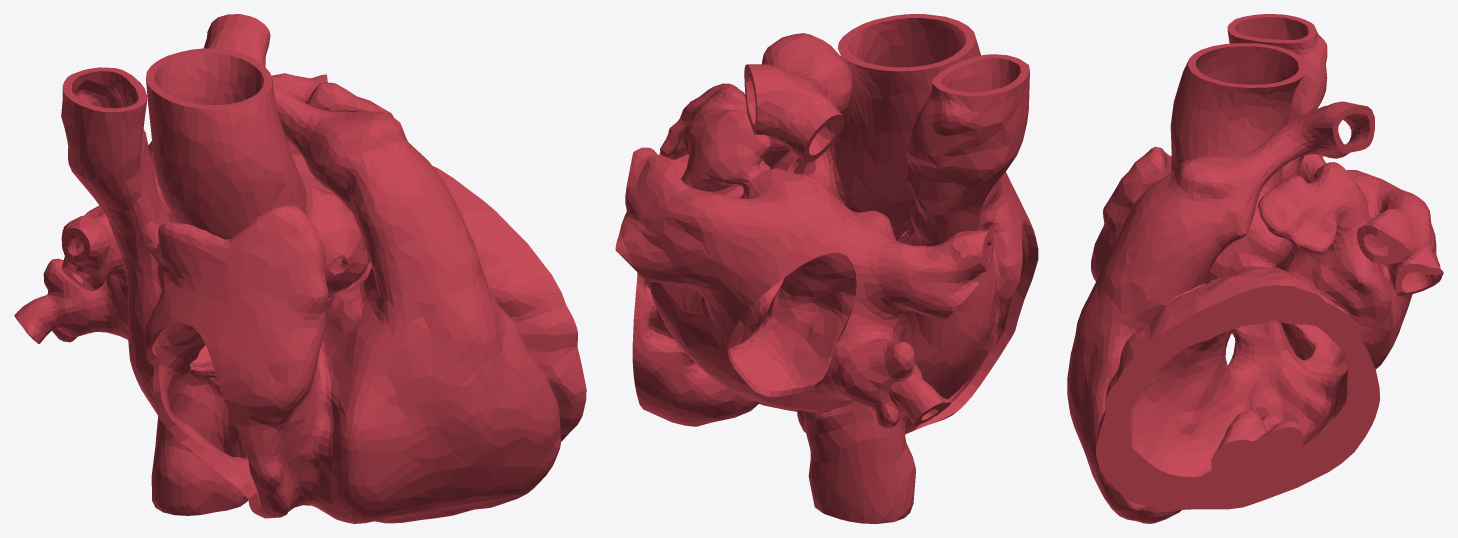
File: pediatric_heart_3_ASD_VSD.glb
3 renders of one model, left to right at view 1: azimuth 30°, elevation 25°; view 2: azimuth 150°, elevation 25°; view 3: azimuth 270°, elevation 25°, orthographic. The views are drawn at different scales.
Parts seen in each view (by area): view 1: PediadricHeart_3_ASD_VSD; view 2: PediadricHeart_3_ASD_VSD; view 3: PediadricHeart_3_ASD_VSD.
Part boxes in pixels (x1,y1,x2,y2): PediadricHeart_3_ASD_VSD: (14,14,586,523); PediadricHeart_3_ASD_VSD: (615,14,1038,523); PediadricHeart_3_ASD_VSD: (1067,14,1443,523).
Bounding box in the file's own units: 0.4082 × 0.4198 × 0.3836.
